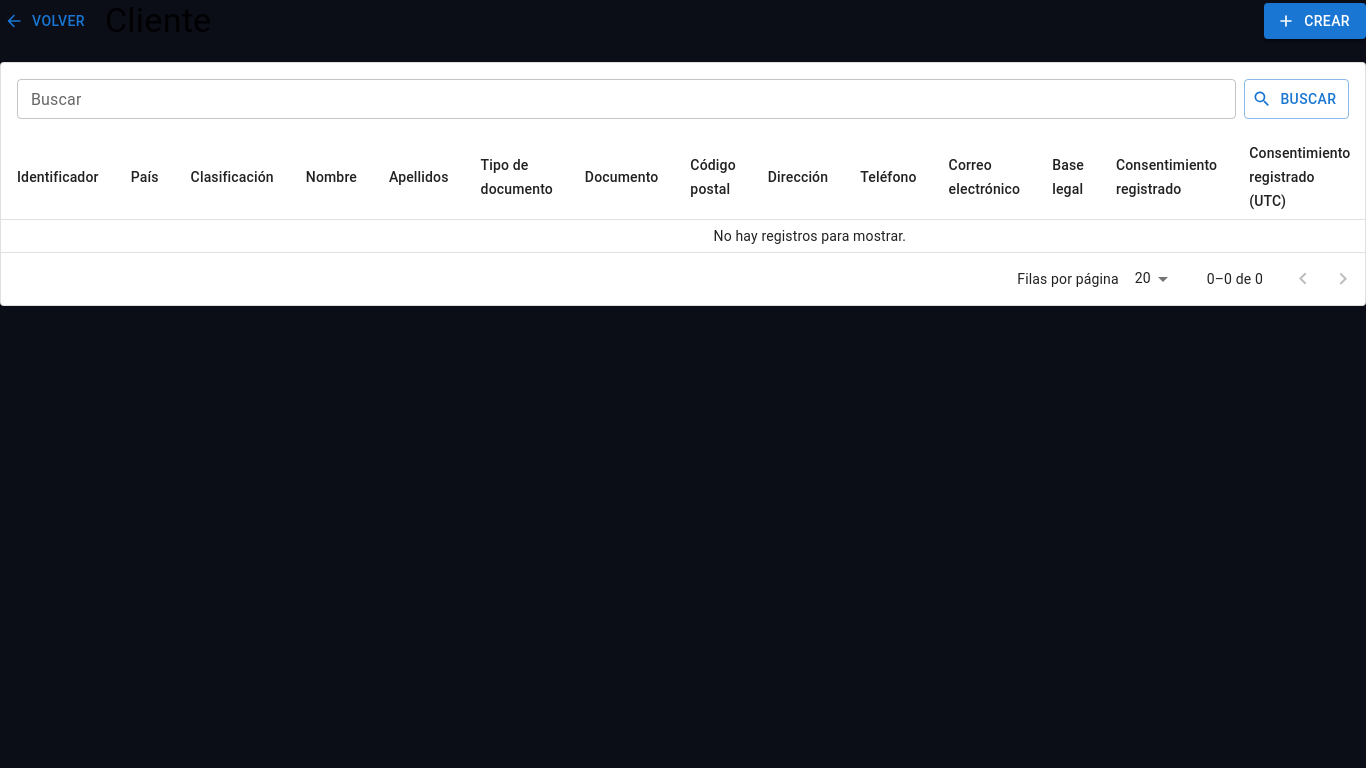
Scenario: CrudPage › validates consent and classification-specific customer fields
Expected: the text "No hay registros para mostrar." is shown, [1,220,1365,252]
Click the button "Crear": (1315, 21) [1264,3,1365,39]
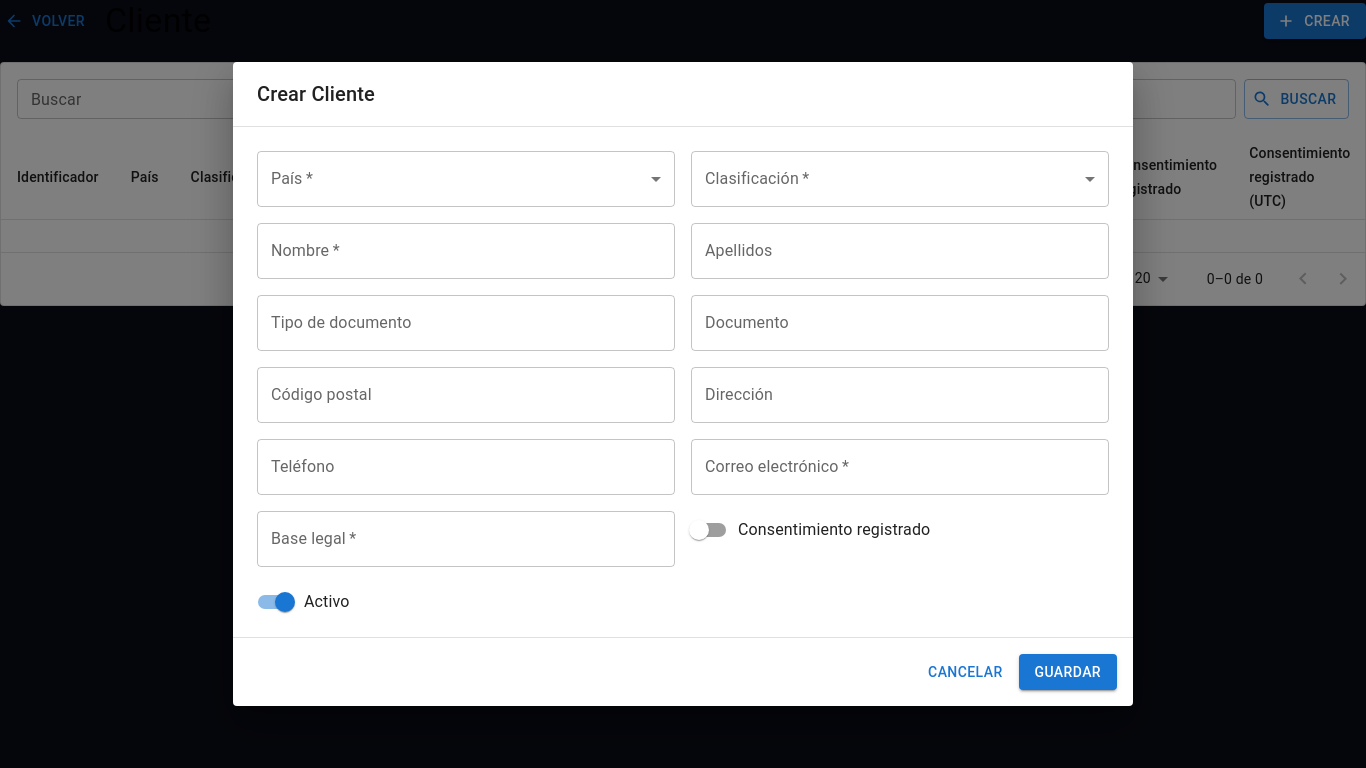
Click the 2nd dropdown named "Clasificación": (900, 179) [691,151,1109,207]
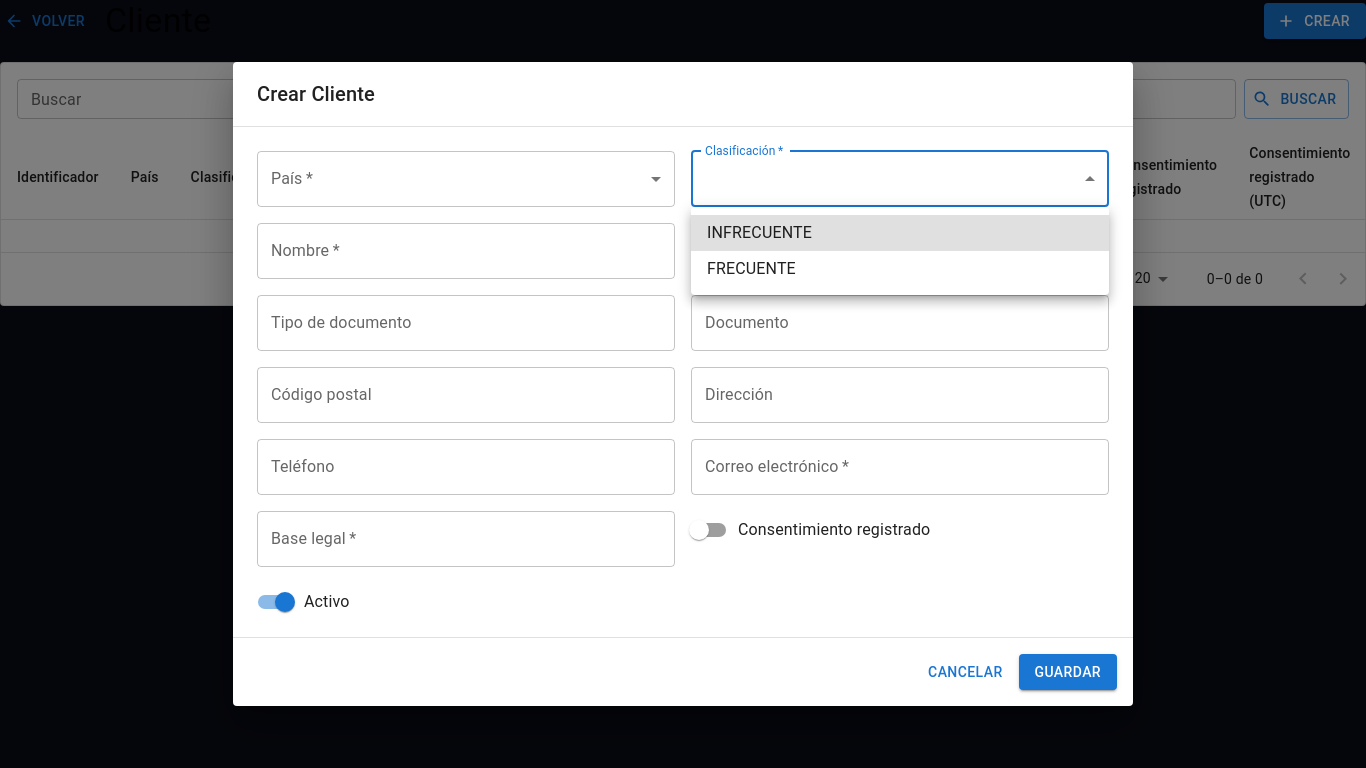
Click the option "FRECUENTE": (751, 268) [707,259,796,278]
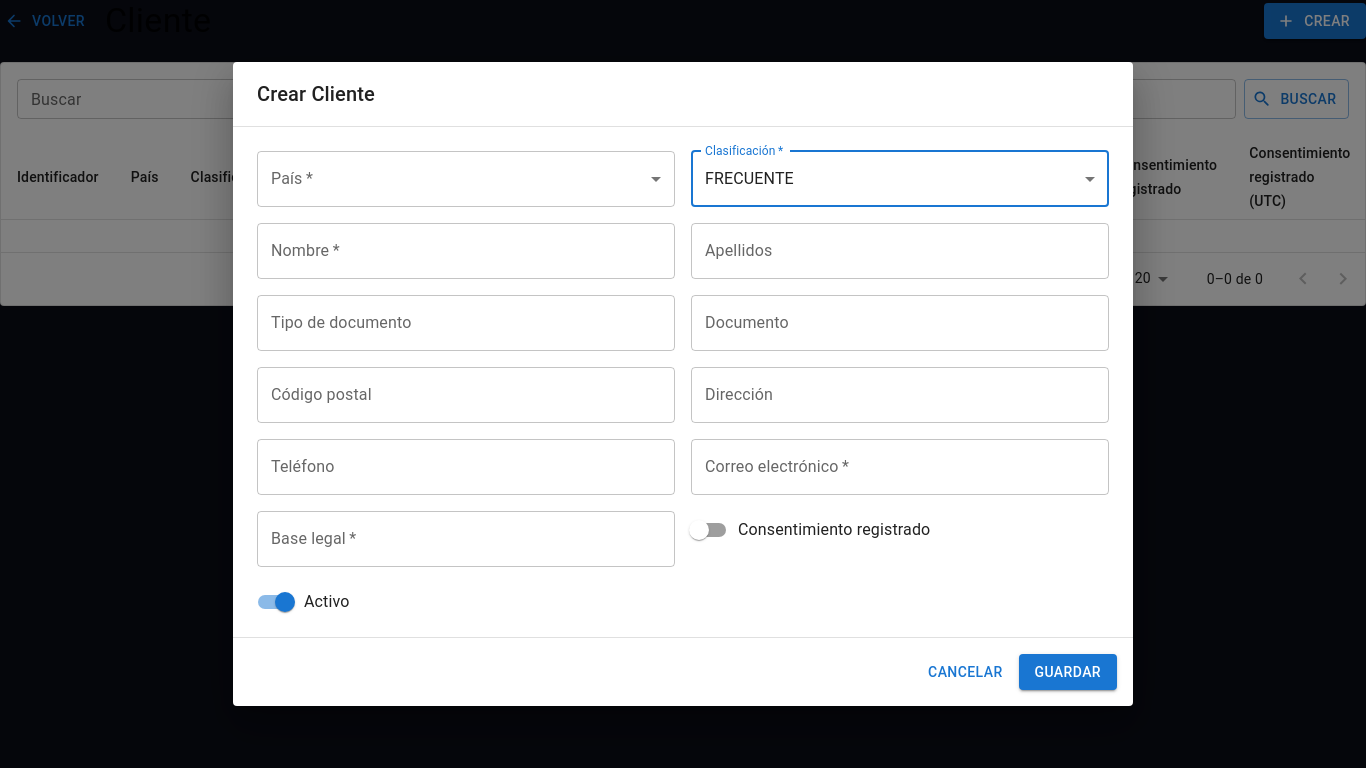
Click the button "Guardar": (1068, 672) [1018,654,1117,690]
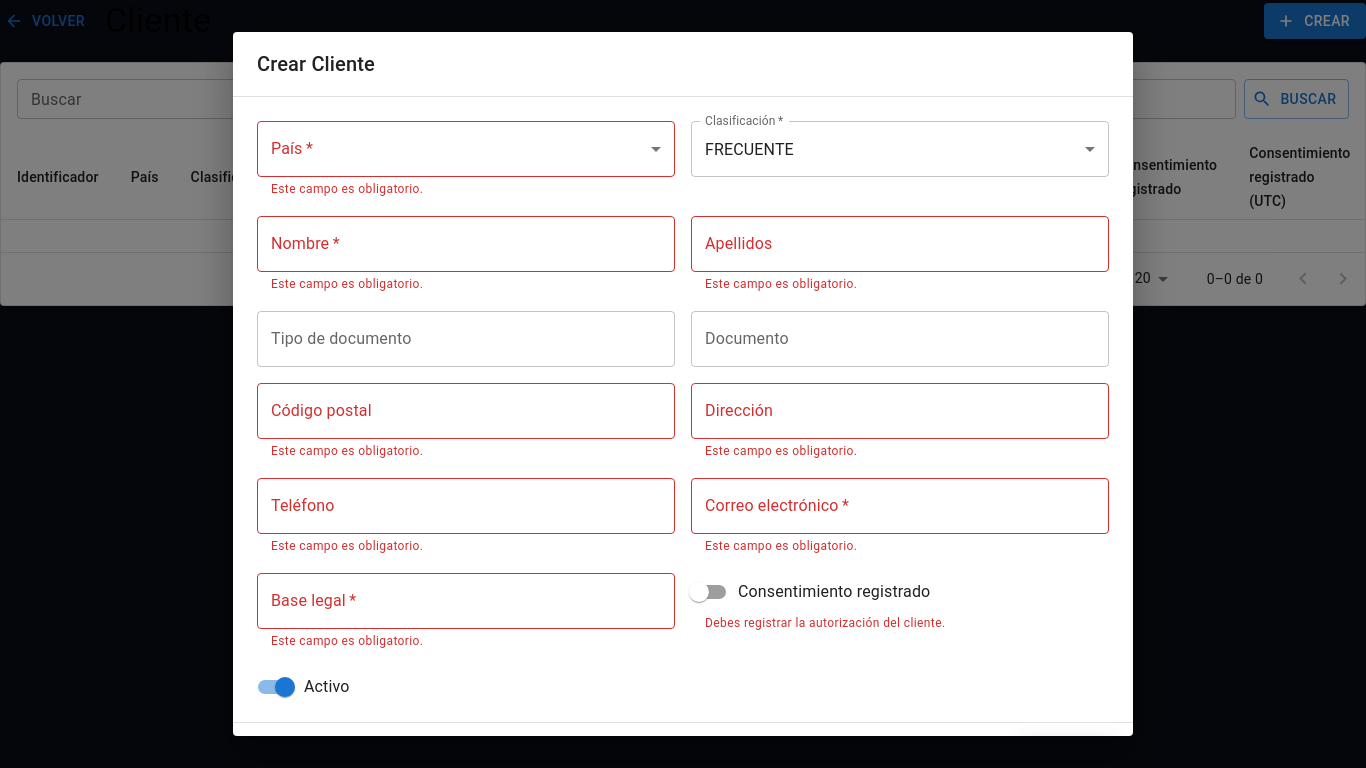
Now the text "Debes registrar la autorización del cliente." is shown, box [705,616,946,630]
